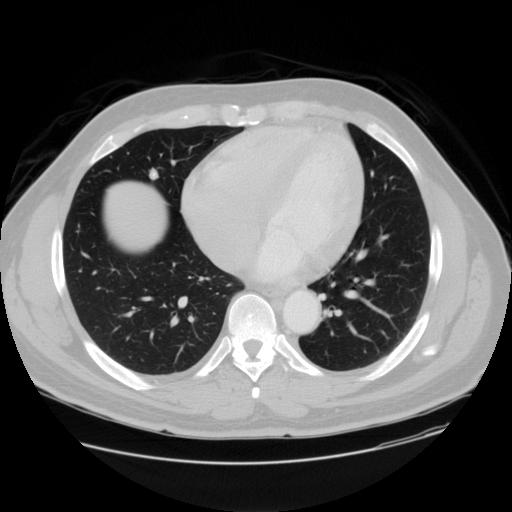nodule: (146, 167, 161, 182)
